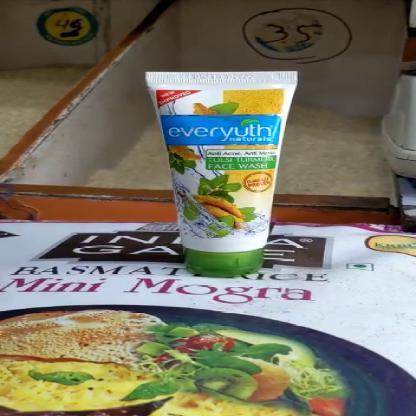EY AAAM TULSI TURMERIC FACEWASH50G: (162, 74, 267, 272)
